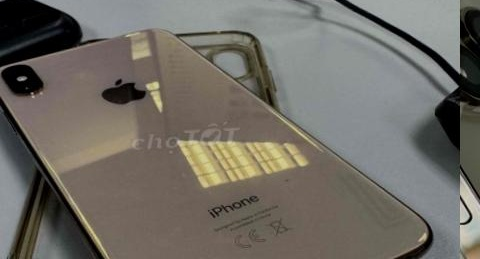scratch: (306, 240, 330, 259)
